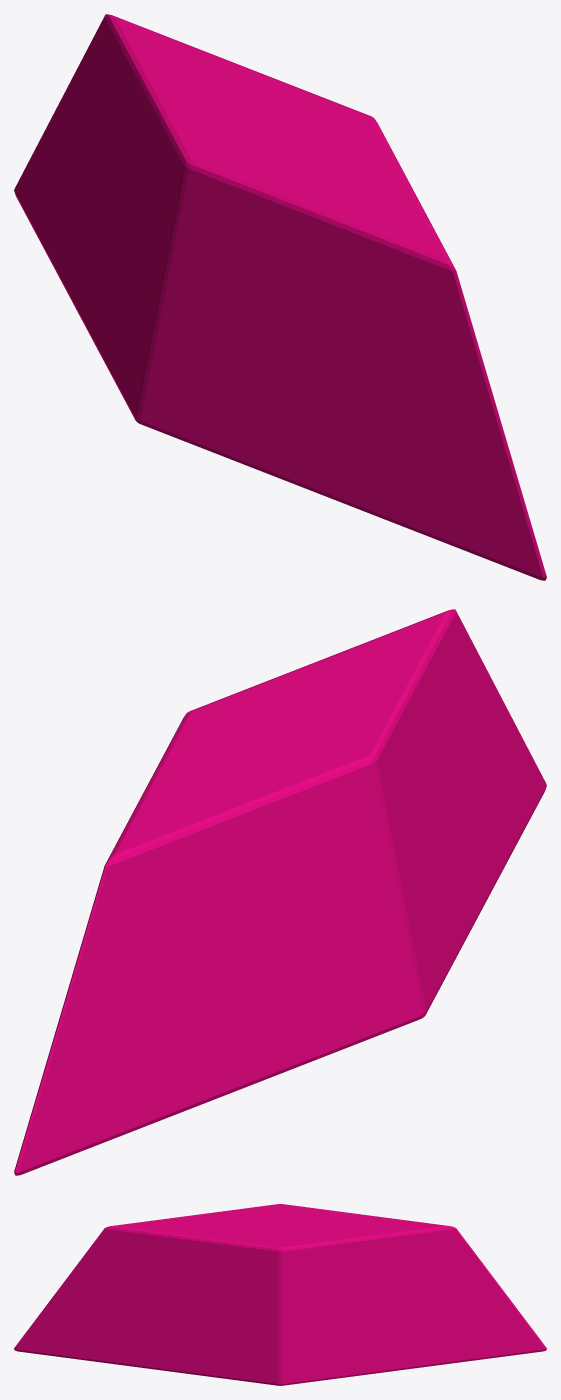
Rendered from Skeeball_Obstacle_2.glb.
The picture shows the model from 3 angles, top to bottom: view 1: azimuth 30°, elevation 25°; view 2: azimuth 150°, elevation 25°; view 3: azimuth 270°, elevation 25°; orthographic projection. The views are drawn at different scales.
Parts seen in each view (by area): view 1: Obstacle; view 2: Obstacle; view 3: Obstacle.
Boxes of the visible parts, x1=… form: Obstacle: x1=14, y1=14, x2=546, y2=580; Obstacle: x1=14, y1=609, x2=546, y2=1175; Obstacle: x1=14, y1=1204, x2=546, y2=1385.
Bounding box in the file's own units: 0.3167 × 0.264 × 1.01.
